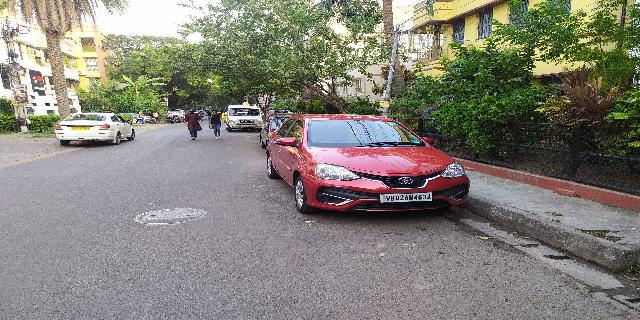Car: (263, 109, 478, 221), (51, 106, 133, 146), (220, 104, 269, 132)
